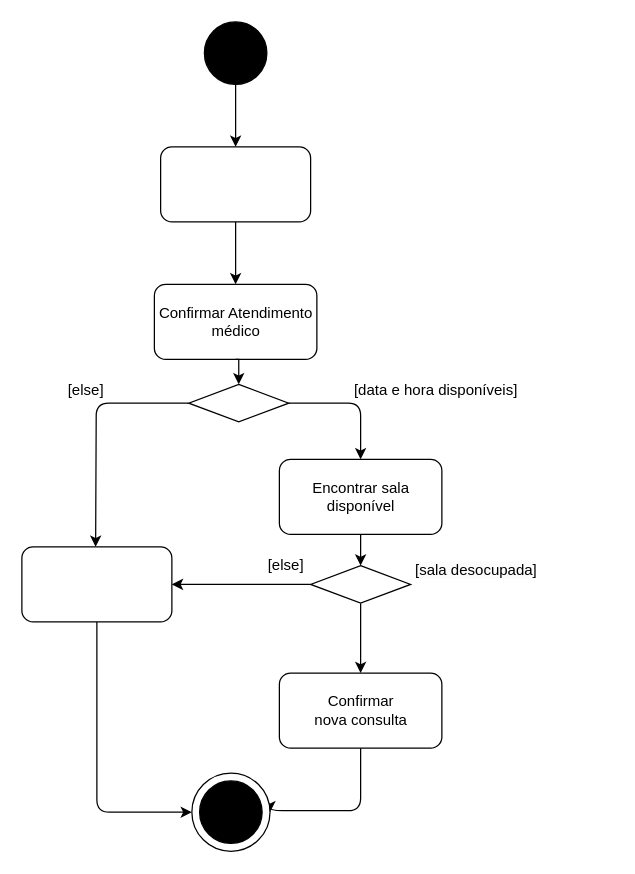
Image size: 635x874. Some labels were removed from this diagram. The centre of each missing label's shape, as x and y in pixels:
"agendar consulta" goes at pixel 235 184.
"Cancelar agendamento" goes at pixel 96 584.
